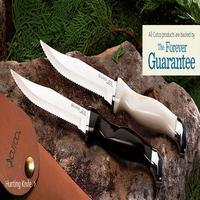knife: (4, 64, 155, 176), (37, 36, 192, 144)
